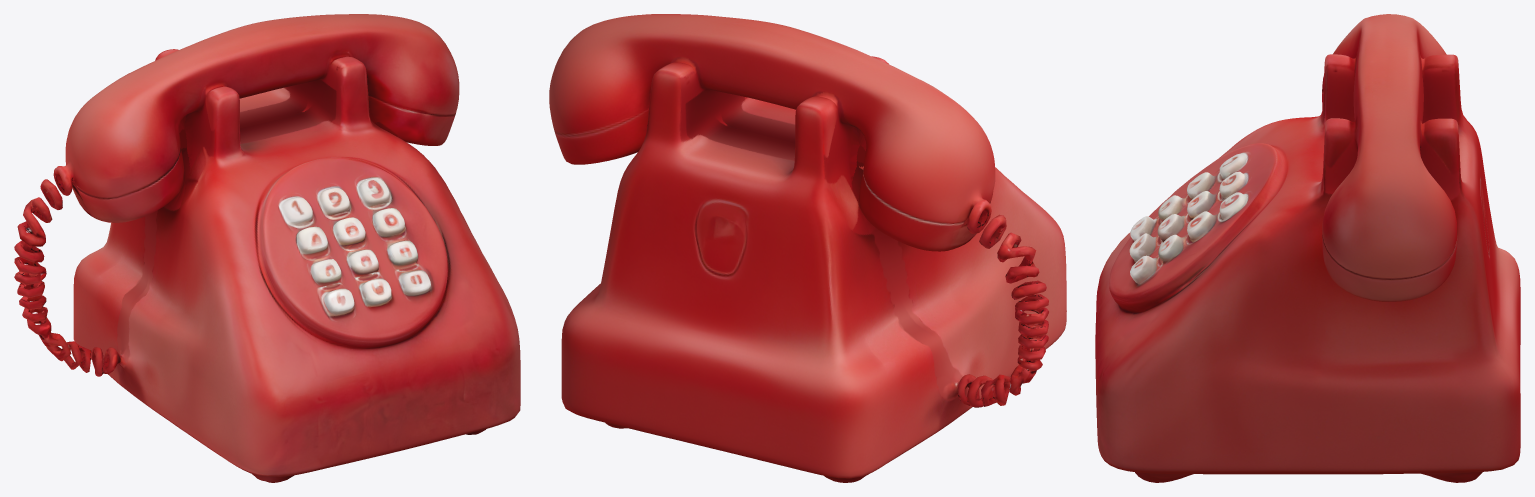
File: base_basic_shaded.glb
3 views of the same model, side by side, from view 1: azimuth 30°, elevation 25°; view 2: azimuth 150°, elevation 25°; view 3: azimuth 270°, elevation 25° (orthographic). The views are drawn at different scales.
Parts seen in each view (by area): view 1: model; view 2: model; view 3: model.
Part boxes in pixels (left/top/right/bottom): model: left=14, top=14, right=520, bottom=482; model: left=549, top=14, right=1066, bottom=482; model: left=1095, top=14, right=1520, bottom=482.
Size of the model in its own units: 1.89 by 1.45 by 1.52.
1 material, 1 textured.
